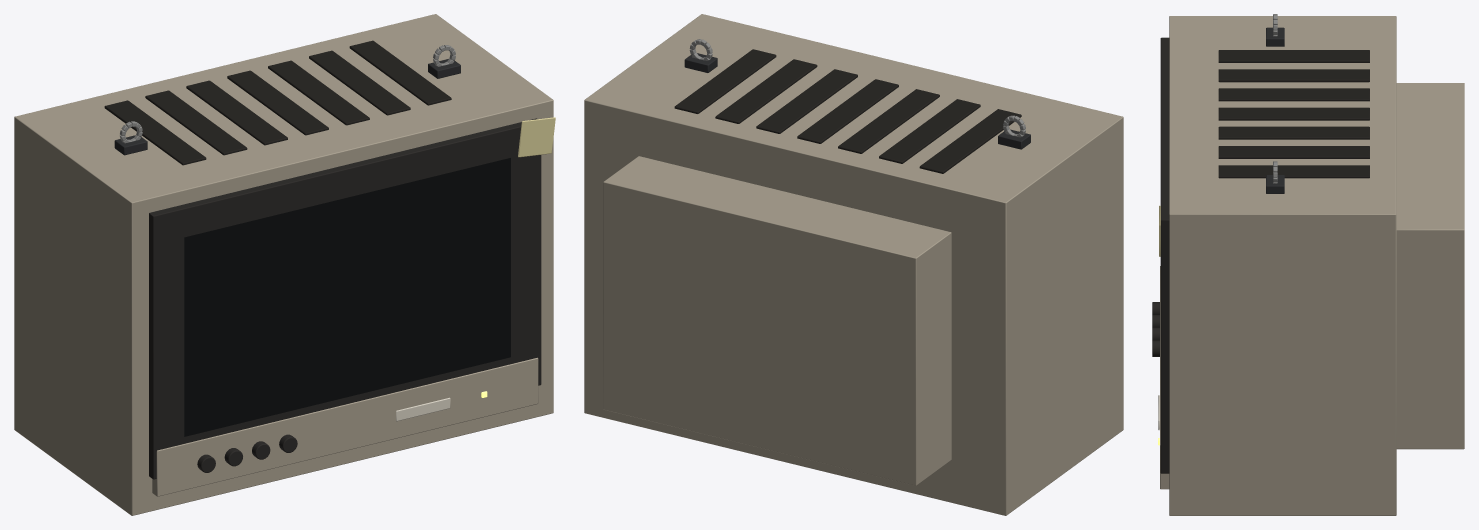
File: SM_L_TV_Hub.fbx
The picture shows the model from 3 angles, left to right: view 1: azimuth 30°, elevation 25°; view 2: azimuth 150°, elevation 25°; view 3: azimuth 270°, elevation 25°; orthographic projection. The views are drawn at different scales.
Parts seen in each view (by area): view 1: SM_L_TV_Hub__Body, SM_L_TV_Hub__Screen; view 2: SM_L_TV_Hub__Body; view 3: SM_L_TV_Hub__Body.
Boxes of the visible parts, <box> form: SM_L_TV_Hub__Body: <box>14,14,555,515</box>; SM_L_TV_Hub__Screen: <box>184,158,510,436</box>; SM_L_TV_Hub__Body: <box>584,14,1123,515</box>; SM_L_TV_Hub__Body: <box>1152,14,1464,515</box>.
Size of the model in its own units: 1.24 by 0.9563 by 0.825.
